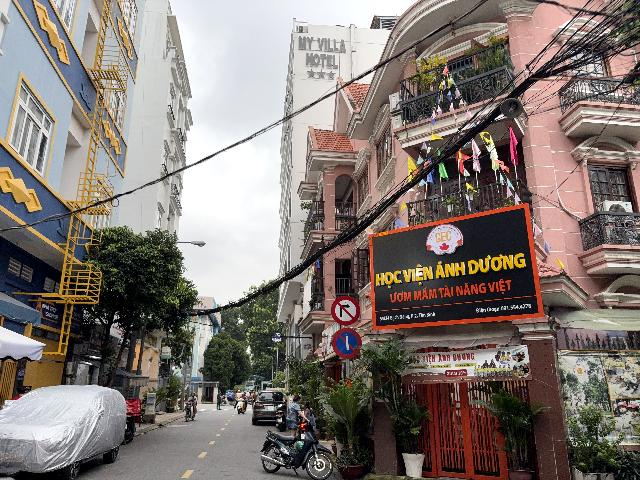cam-do-xe-ngay-le: (332, 327, 362, 359)
cam-re-phai: (331, 295, 360, 325)
